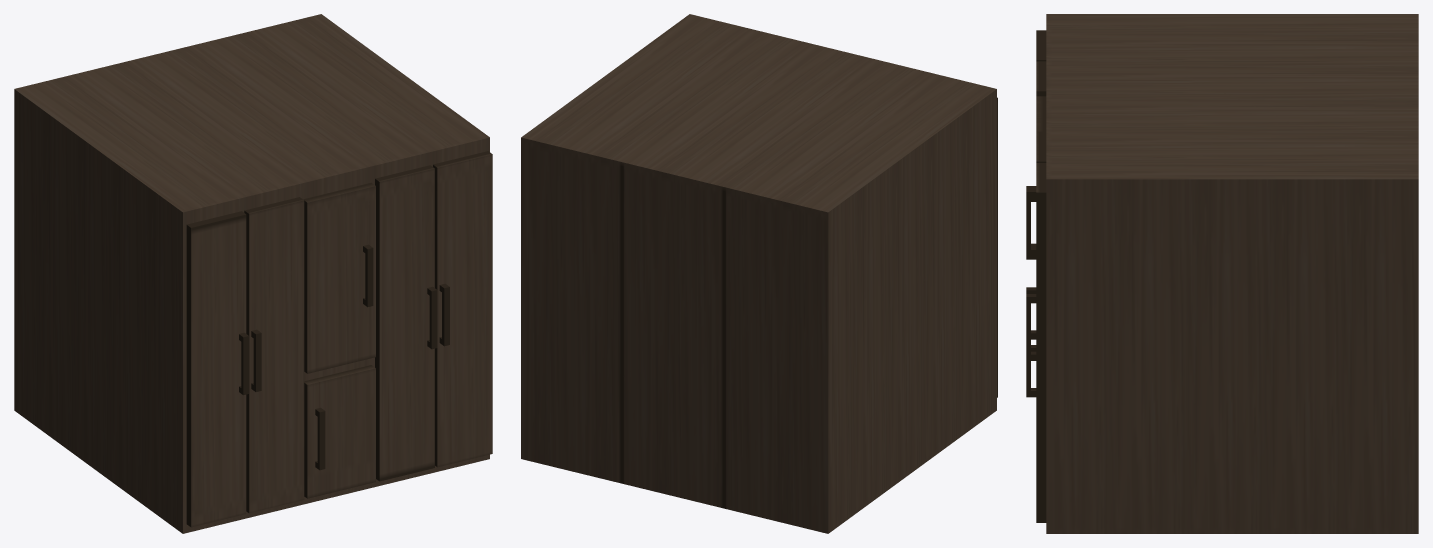
The picture shows the model from 3 angles, left to right: view 1: azimuth 30°, elevation 25°; view 2: azimuth 150°, elevation 25°; view 3: azimuth 270°, elevation 25°; orthographic projection. The views are drawn at different scales.
Parts seen in each view (by area): view 1: pCube17; view 2: pCube17; view 3: pCube17.
Part boxes in pixels (x1=…): pCube17: x1=14, y1=14, x2=492, y2=533; pCube17: x1=521, y1=14, x2=997, y2=533; pCube17: x1=1026, y1=14, x2=1418, y2=533.
Bounding box in the file's own units: 11.97 × 11.97 × 12.
Materials: 1 (1 with a texture image).
